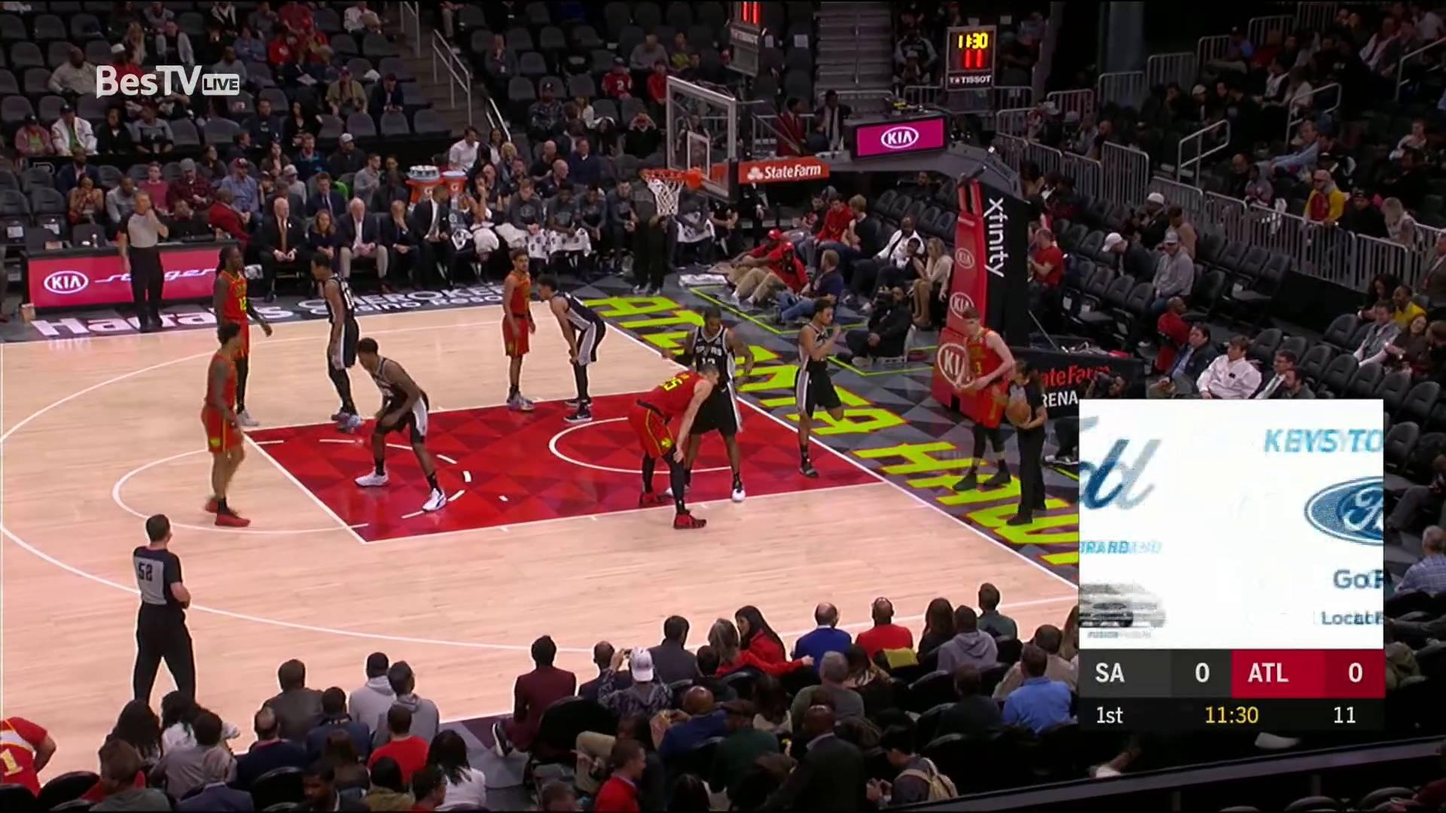basketball: (1007, 400, 1031, 424)
